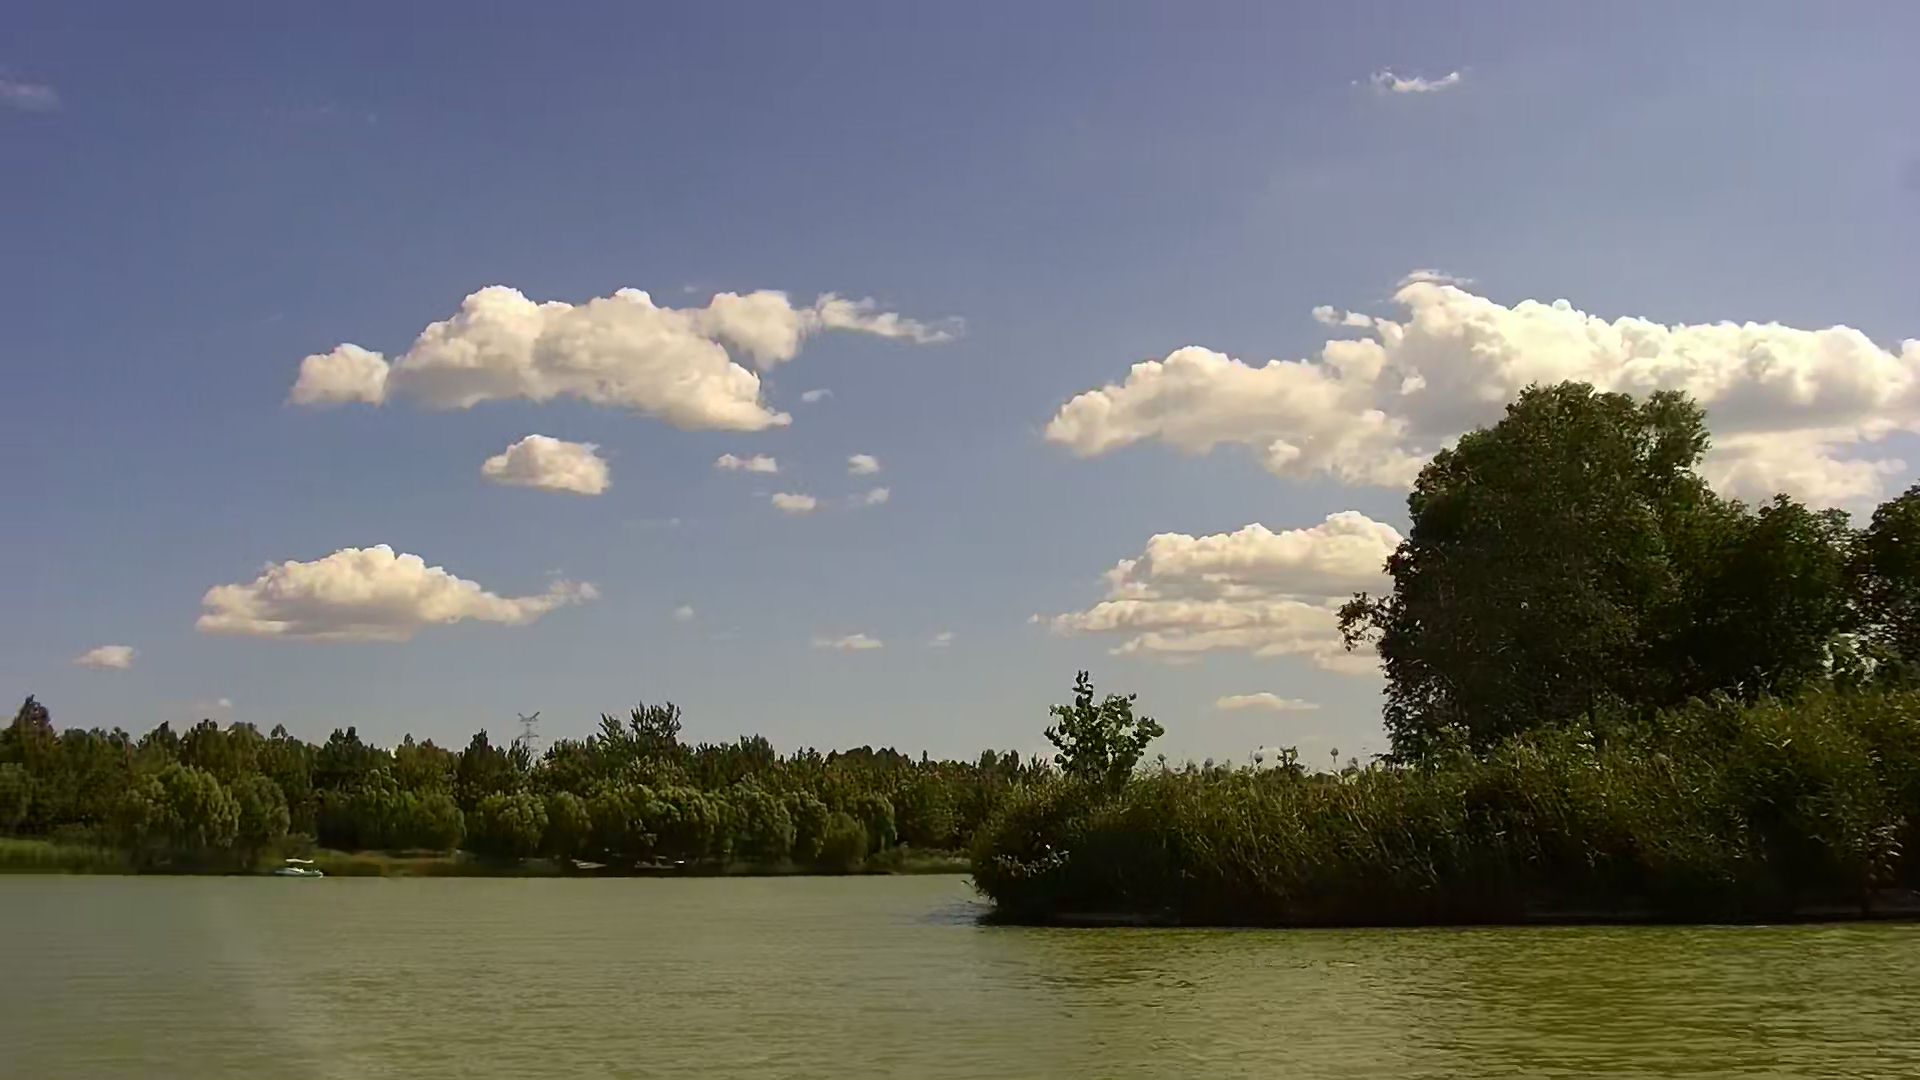boat: (276, 851, 323, 882)
